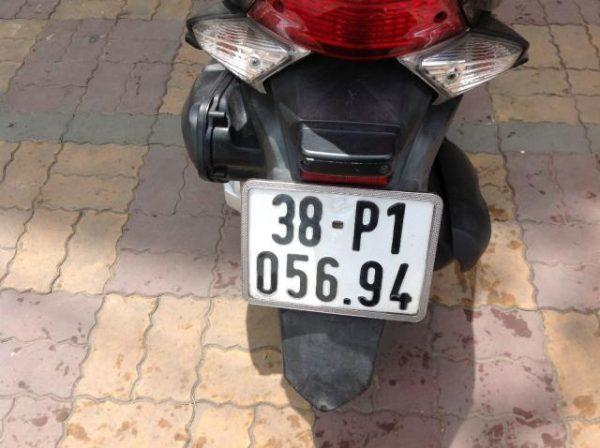numplate: (238, 178, 442, 325)
